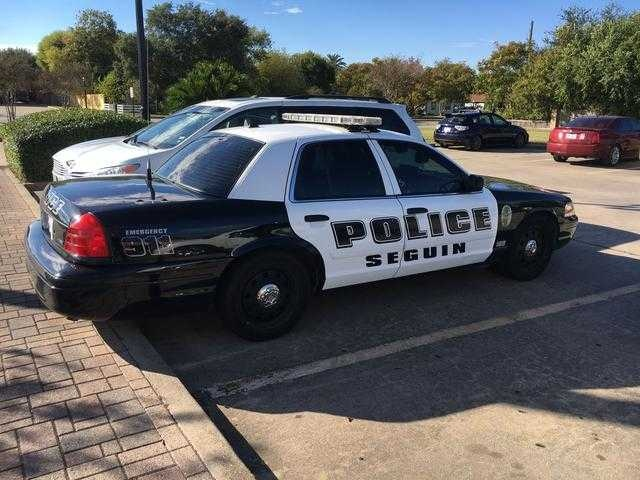Police Car: (23, 97, 618, 312)
